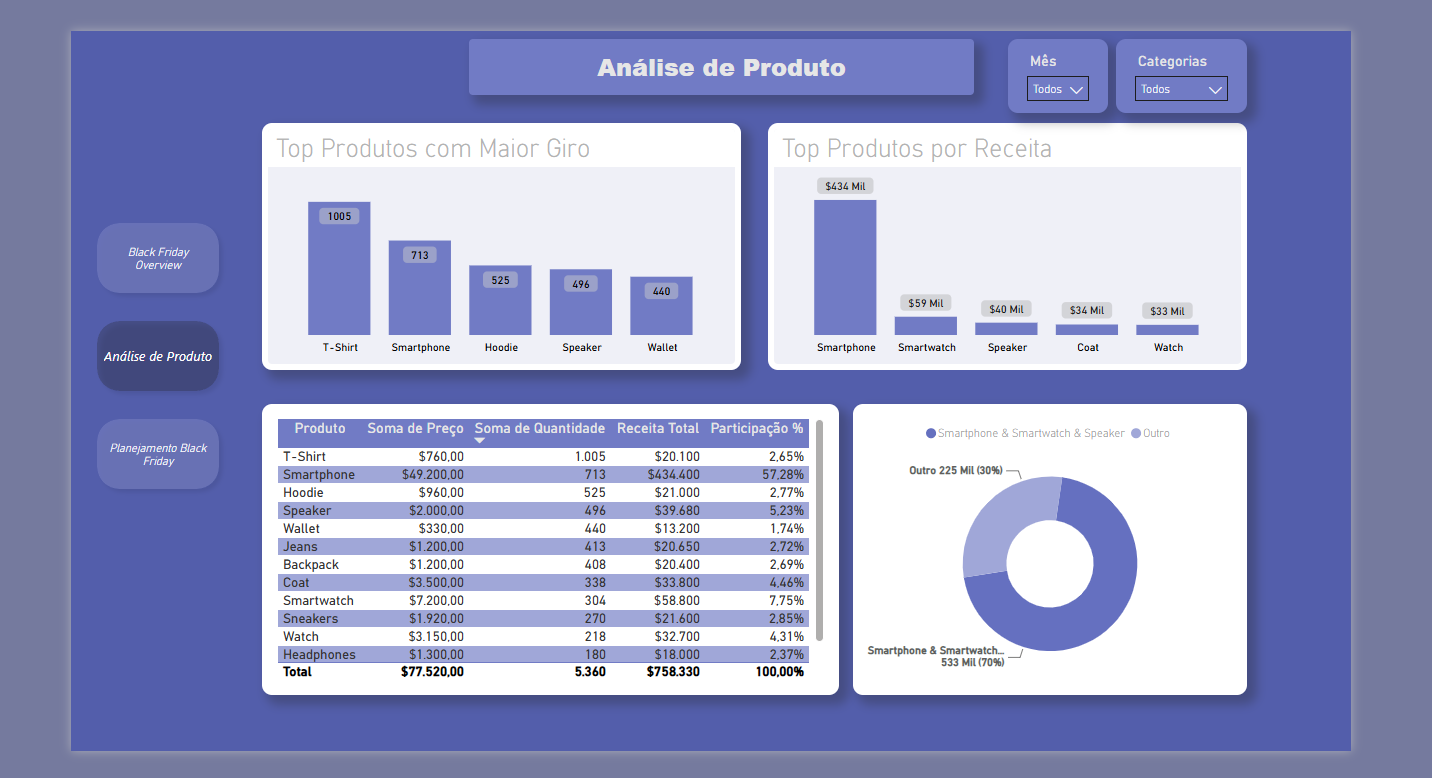

The page's visual inventory and layout, read from the dashboard file:
{"tool":"powerbi","page":{"name":"Análise de Produto","canvas":[1280,720],"ordinal":1},"visuals":[{"type":"columnChart","title":"Top Produtos com Maior Giro","fields":{"Category":["sales_data.Produto"],"Y":["medidas.TOP 5 Produtos Quantidade"]},"box":[191,92,479,247],"z":0},{"type":"textbox","box":[398,8,505,56],"z":1000},{"type":"columnChart","title":"Top Produtos por Receita","fields":{"Category":["sales_data.Produto"],"Y":["medidas.Receita Total"]},"box":[697,92,479,247],"z":2000},{"type":"tableEx","fields":{"Values":["sales_data.Produto","Sum(sales_data.Preço)","Sum(sales_data.Quantidade)","medidas.Receita Total","medidas.Participação %"]},"box":[191,373,577,291],"z":3000},{"type":"donutChart","title":"Top % por Receita","fields":{"Y":["medidas.Receita Total"],"Category":["sales_data.Produto (grupos)"]},"box":[782,373,394,291],"z":4000},{"type":"slicer","fields":{"Values":["sales_data.Mês"]},"box":[937,8,100,74],"z":5000},{"type":"slicer","fields":{"Values":["sales_data.Categoria"]},"box":[1045,8,131,74],"z":6000},{"type":"pageNavigator","box":[17,183,140,285],"z":7000}]}

Visuals, with their boxes on the page's 1280x720 design canvas (x1, y1, x2, y2). These are canvas units, not pixel positions in the 1432x778 screenshot, which may show the page scaled, cropped or inside an application window:
"Top Produtos com Maior Giro" columnChart: 191, 92, 670, 339
textbox: 398, 8, 903, 64
"Top Produtos por Receita" columnChart: 697, 92, 1176, 339
tableEx - sales_data.Produto x Sum(sales_data.Preço): 191, 373, 768, 664
"Top % por Receita" donutChart: 782, 373, 1176, 664
slicer - sales_data.Mês: 937, 8, 1037, 82
slicer - sales_data.Categoria: 1045, 8, 1176, 82
pageNavigator: 17, 183, 157, 468
